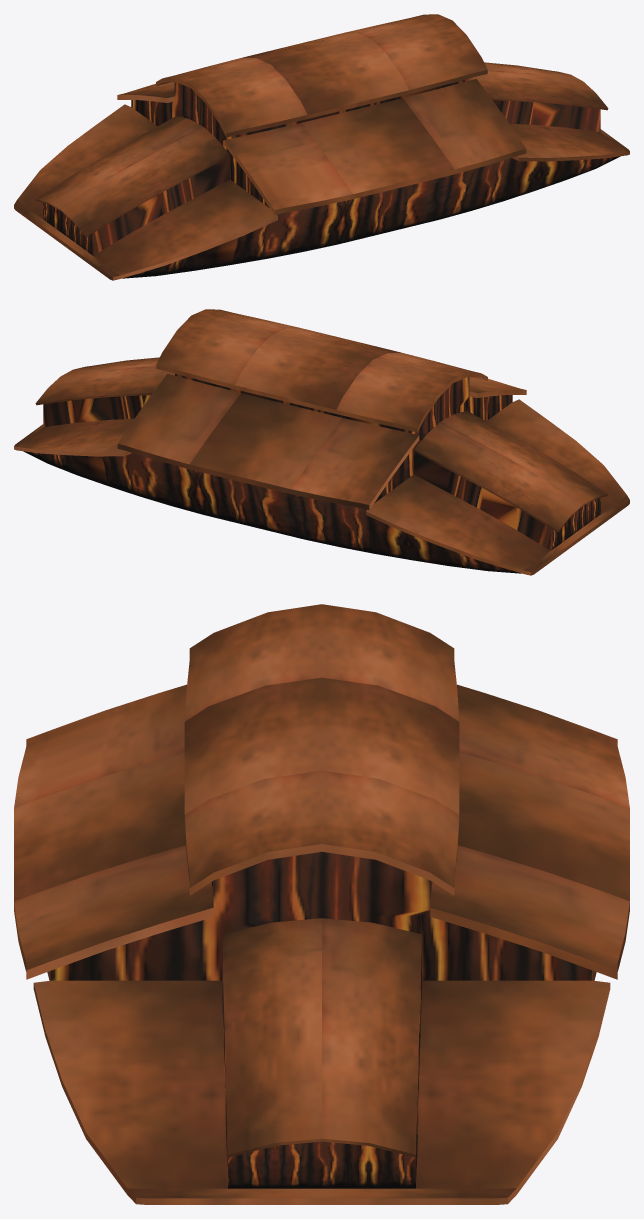
File: mansion_roof.glb
3 views of the same model, one above another, from view 1: azimuth 30°, elevation 25°; view 2: azimuth 150°, elevation 25°; view 3: azimuth 270°, elevation 25° (orthographic). The views are drawn at different scales.
Parts seen in each view (by area): view 1: Object002; view 2: Object002; view 3: Object002.
Part boxes in pixels (box(x1,y1,x2,y2)): Object002: box(14, 14, 629, 280); Object002: box(14, 309, 629, 575); Object002: box(14, 604, 629, 1204).
Bounding box in the file's own units: 275 × 65.56 × 149.
Materials: 1 (1 with a texture image).
